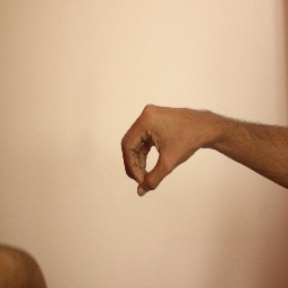O: (121, 102, 204, 197)
